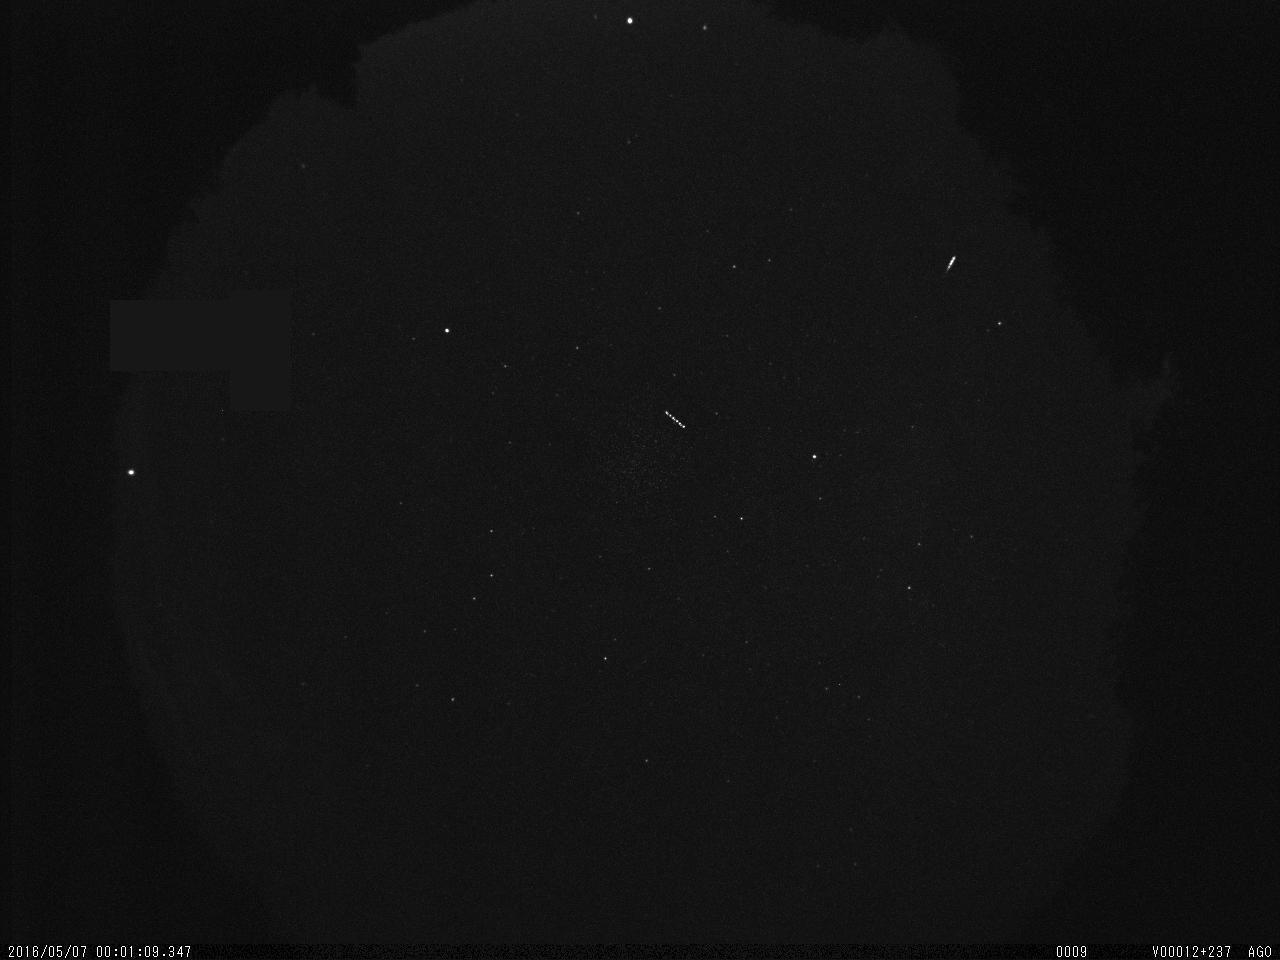Meteor: (943, 253, 958, 272)
